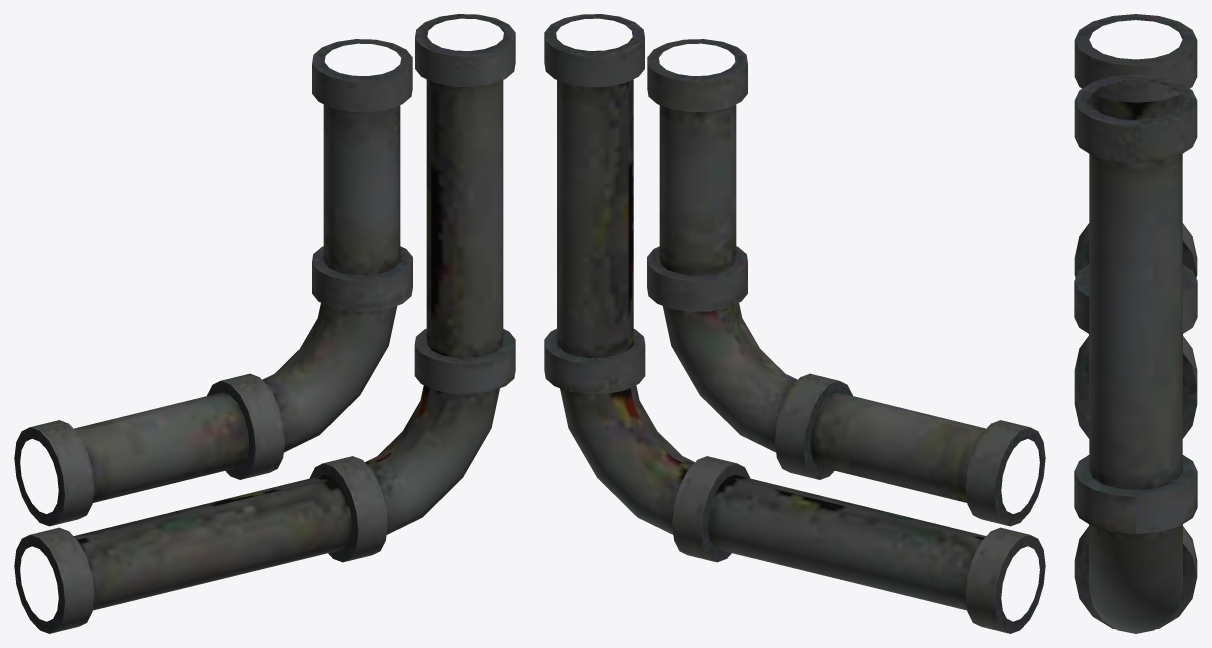
3 renders of one model, left to right at view 1: azimuth 30°, elevation 25°; view 2: azimuth 150°, elevation 25°; view 3: azimuth 270°, elevation 25°, orthographic. The views are drawn at different scales.
Visible parts, largest first — view 1: body0_model0_lod0_mesh0; view 2: body0_model0_lod0_mesh0; view 3: body0_model0_lod0_mesh0.
Boxes of the visible parts, x1,y1,x2,y2 form: body0_model0_lod0_mesh0: [14, 14, 515, 633]; body0_model0_lod0_mesh0: [544, 14, 1045, 633]; body0_model0_lod0_mesh0: [1074, 14, 1197, 633].
Size of the model in its own units: 32.01 by 32.01 by 6.01.
Materials: 1 (1 with a texture image).
